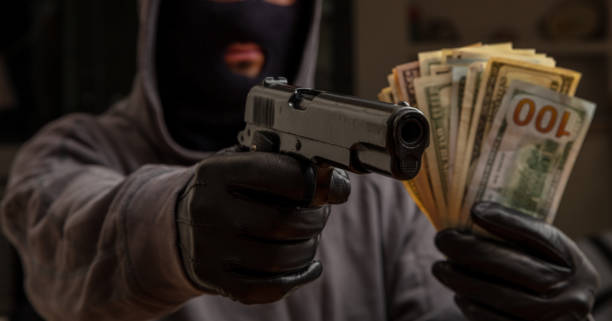gun: (237, 74, 430, 181)
